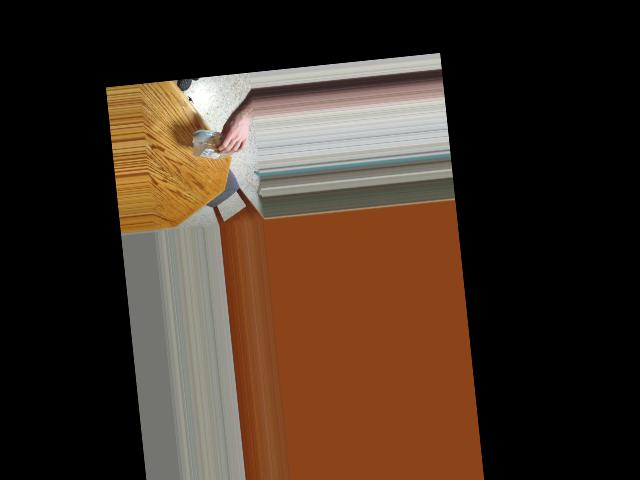cheese: (199, 121, 246, 162)
